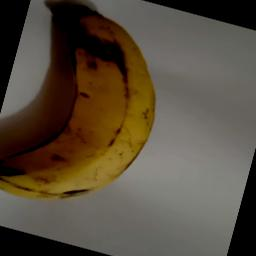Banana Unripe: (0, 0, 181, 227)
